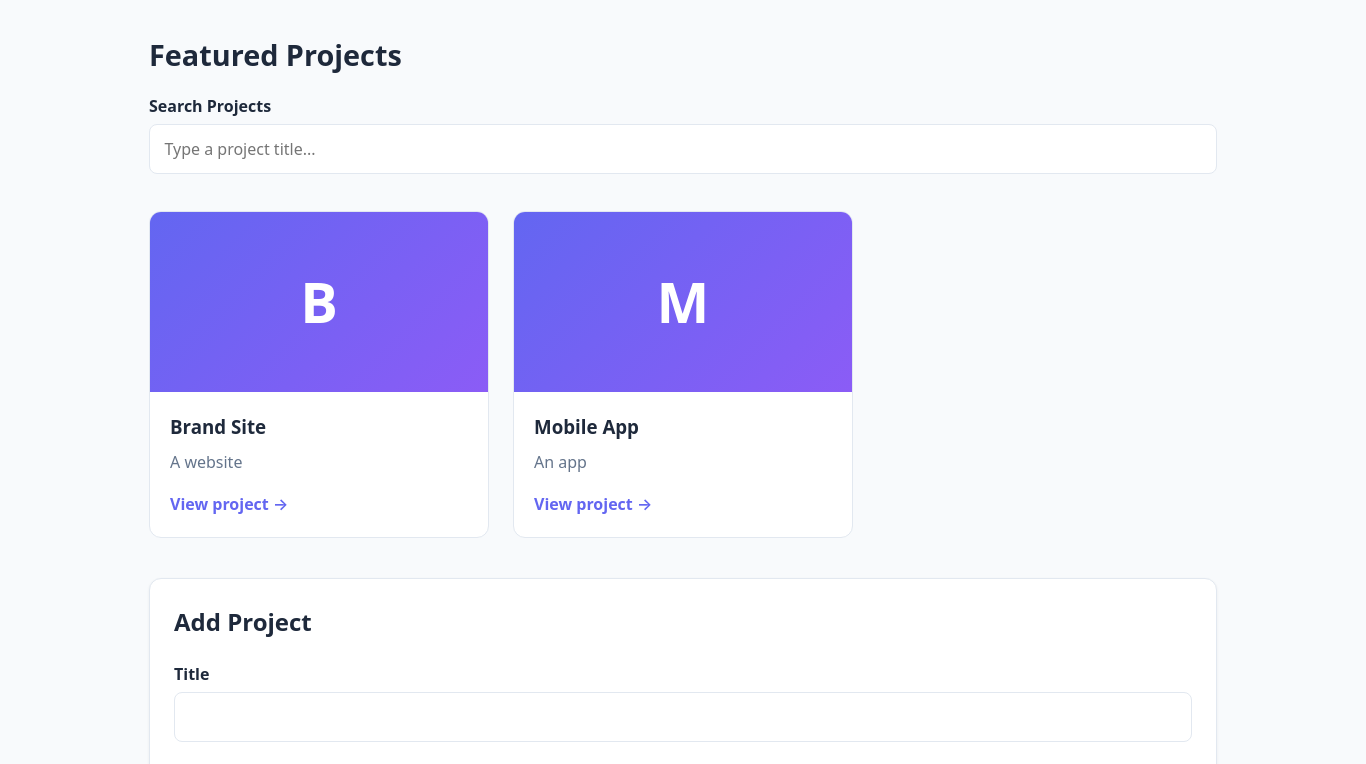
Test: search hides projects that do not match
Type "mobile" into the field labelled "Search Projects".
click(683, 150); type("mobile")  # box [149,124,1217,174]
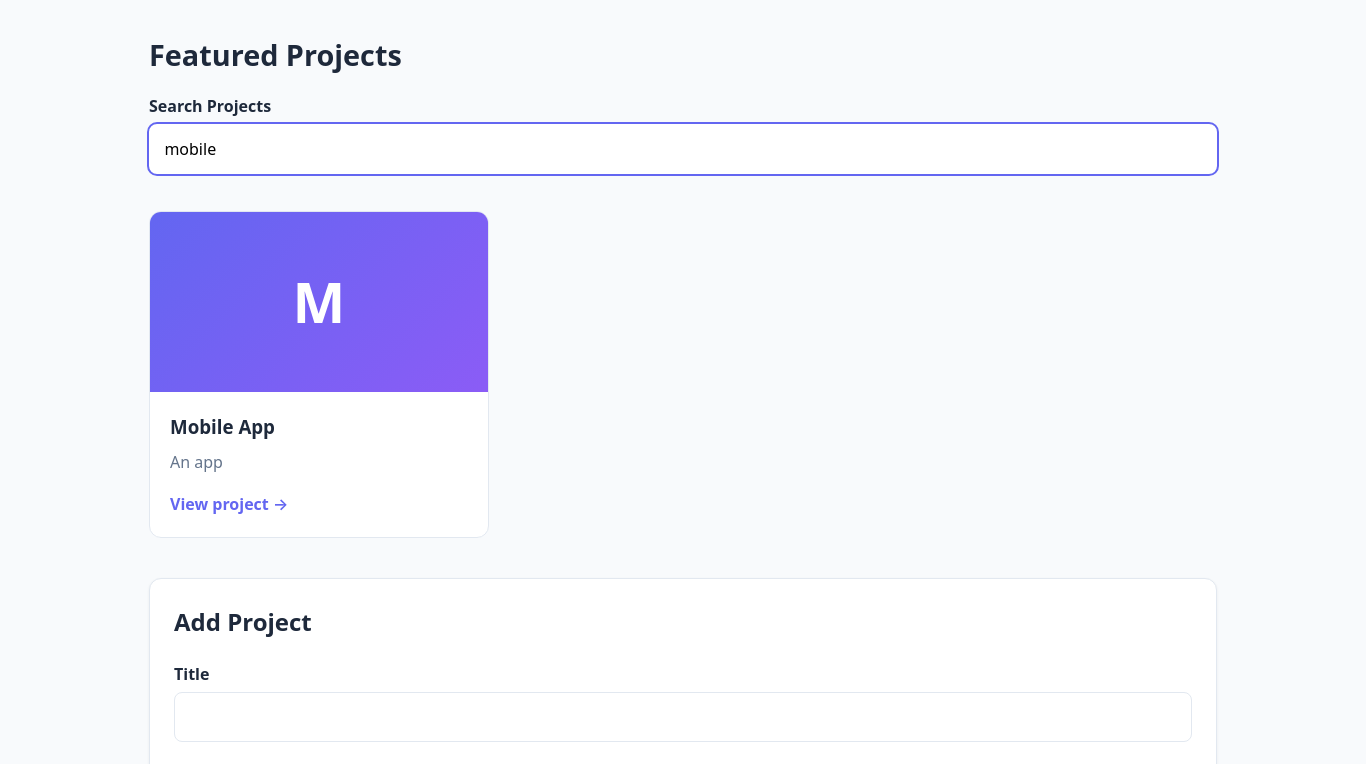
Expected: the heading "Mobile App" is shown, [170,414,275,439]
Now the heading "Brand Site" is gone
